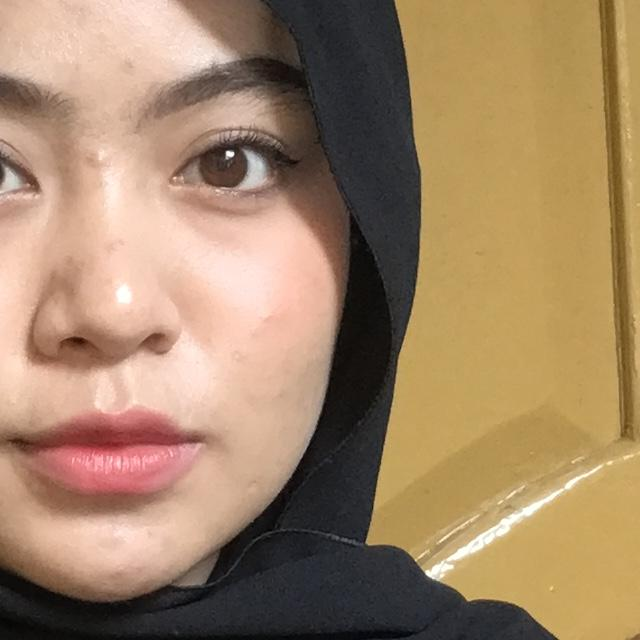kapan: (440, 156, 640, 640)
